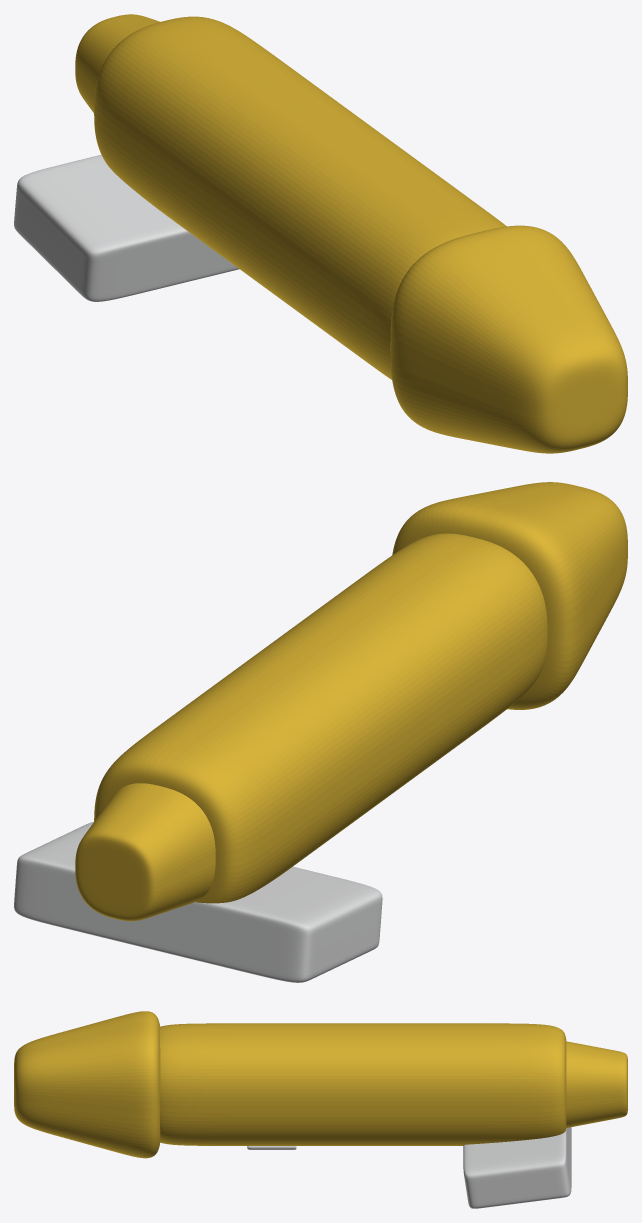
The model's file is rocket_wrong_fins_sq.glb.
3 renders of one model, top to bottom at view 1: azimuth 30°, elevation 25°; view 2: azimuth 150°, elevation 25°; view 3: azimuth 270°, elevation 25°, orthographic. The views are drawn at different scales.
Parts seen in each view (by area): view 1: superquadric_0, superquadric_1, superquadric_3, superquadric_2; view 2: superquadric_0, superquadric_3, superquadric_1, superquadric_2; view 3: superquadric_0, superquadric_1, superquadric_3, superquadric_2.
Part boxes in pixels (x1,y1,x2,y2): superquadric_0: (94,16,506,379); superquadric_1: (390,225,627,453); superquadric_3: (14,154,239,301); superquadric_2: (75,14,159,112); superquadric_0: (94,533,547,903); superquadric_3: (14,822,382,982); superquadric_1: (392,482,627,709); superquadric_2: (75,783,215,921); superquadric_0: (160,1023,566,1145); superquadric_1: (14,1011,160,1158); superquadric_3: (463,1127,571,1208); superquadric_2: (566,1041,627,1127).
Bounding box in the file's own units: 0.36 × 0.2561 × 1.
